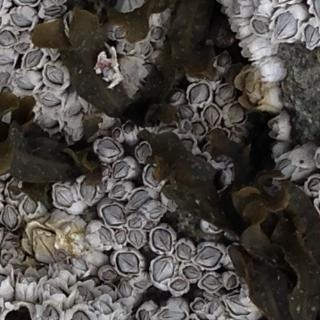Barnacle: (31, 229, 66, 267), (242, 64, 264, 102), (274, 11, 300, 40), (227, 293, 254, 316), (196, 247, 223, 268), (116, 252, 139, 274), (102, 205, 125, 227), (153, 227, 171, 255), (127, 188, 152, 208), (152, 256, 174, 278), (54, 186, 75, 207), (189, 82, 209, 104), (1, 204, 18, 229), (79, 179, 97, 201), (97, 140, 120, 157), (305, 23, 320, 49), (36, 92, 61, 107), (23, 50, 45, 67), (7, 178, 25, 198), (113, 161, 133, 179), (203, 105, 220, 126), (93, 300, 113, 317), (229, 104, 246, 124), (145, 165, 160, 187), (253, 17, 271, 35), (42, 115, 61, 132), (178, 242, 194, 262), (45, 65, 62, 83), (202, 276, 222, 291), (22, 195, 37, 215), (44, 283, 66, 296), (108, 184, 127, 199), (161, 308, 184, 320), (278, 160, 295, 176), (40, 305, 58, 320), (219, 86, 234, 104), (11, 14, 30, 28), (183, 266, 203, 279), (0, 30, 16, 46), (129, 230, 144, 247), (136, 143, 151, 160), (120, 279, 133, 298), (19, 271, 38, 284), (99, 228, 112, 246), (70, 257, 86, 271), (45, 5, 63, 17), (79, 286, 93, 301), (179, 136, 193, 151), (178, 105, 192, 120), (70, 97, 81, 116), (193, 121, 206, 137), (170, 278, 185, 291), (101, 270, 116, 283), (148, 206, 163, 219), (115, 231, 127, 246), (308, 178, 320, 193), (169, 88, 181, 102), (232, 0, 242, 16), (192, 298, 205, 310), (122, 122, 135, 134), (0, 52, 13, 64), (0, 70, 11, 84), (227, 274, 237, 289), (272, 118, 281, 134), (140, 44, 151, 57), (136, 310, 150, 320), (128, 218, 142, 228), (218, 53, 228, 67), (244, 41, 254, 55), (234, 20, 242, 36), (152, 27, 163, 38), (121, 302, 129, 316), (209, 303, 219, 314), (124, 43, 135, 53), (19, 41, 30, 51), (116, 28, 127, 38), (4, 251, 13, 260), (136, 279, 146, 287), (113, 127, 120, 138), (184, 122, 191, 130)
